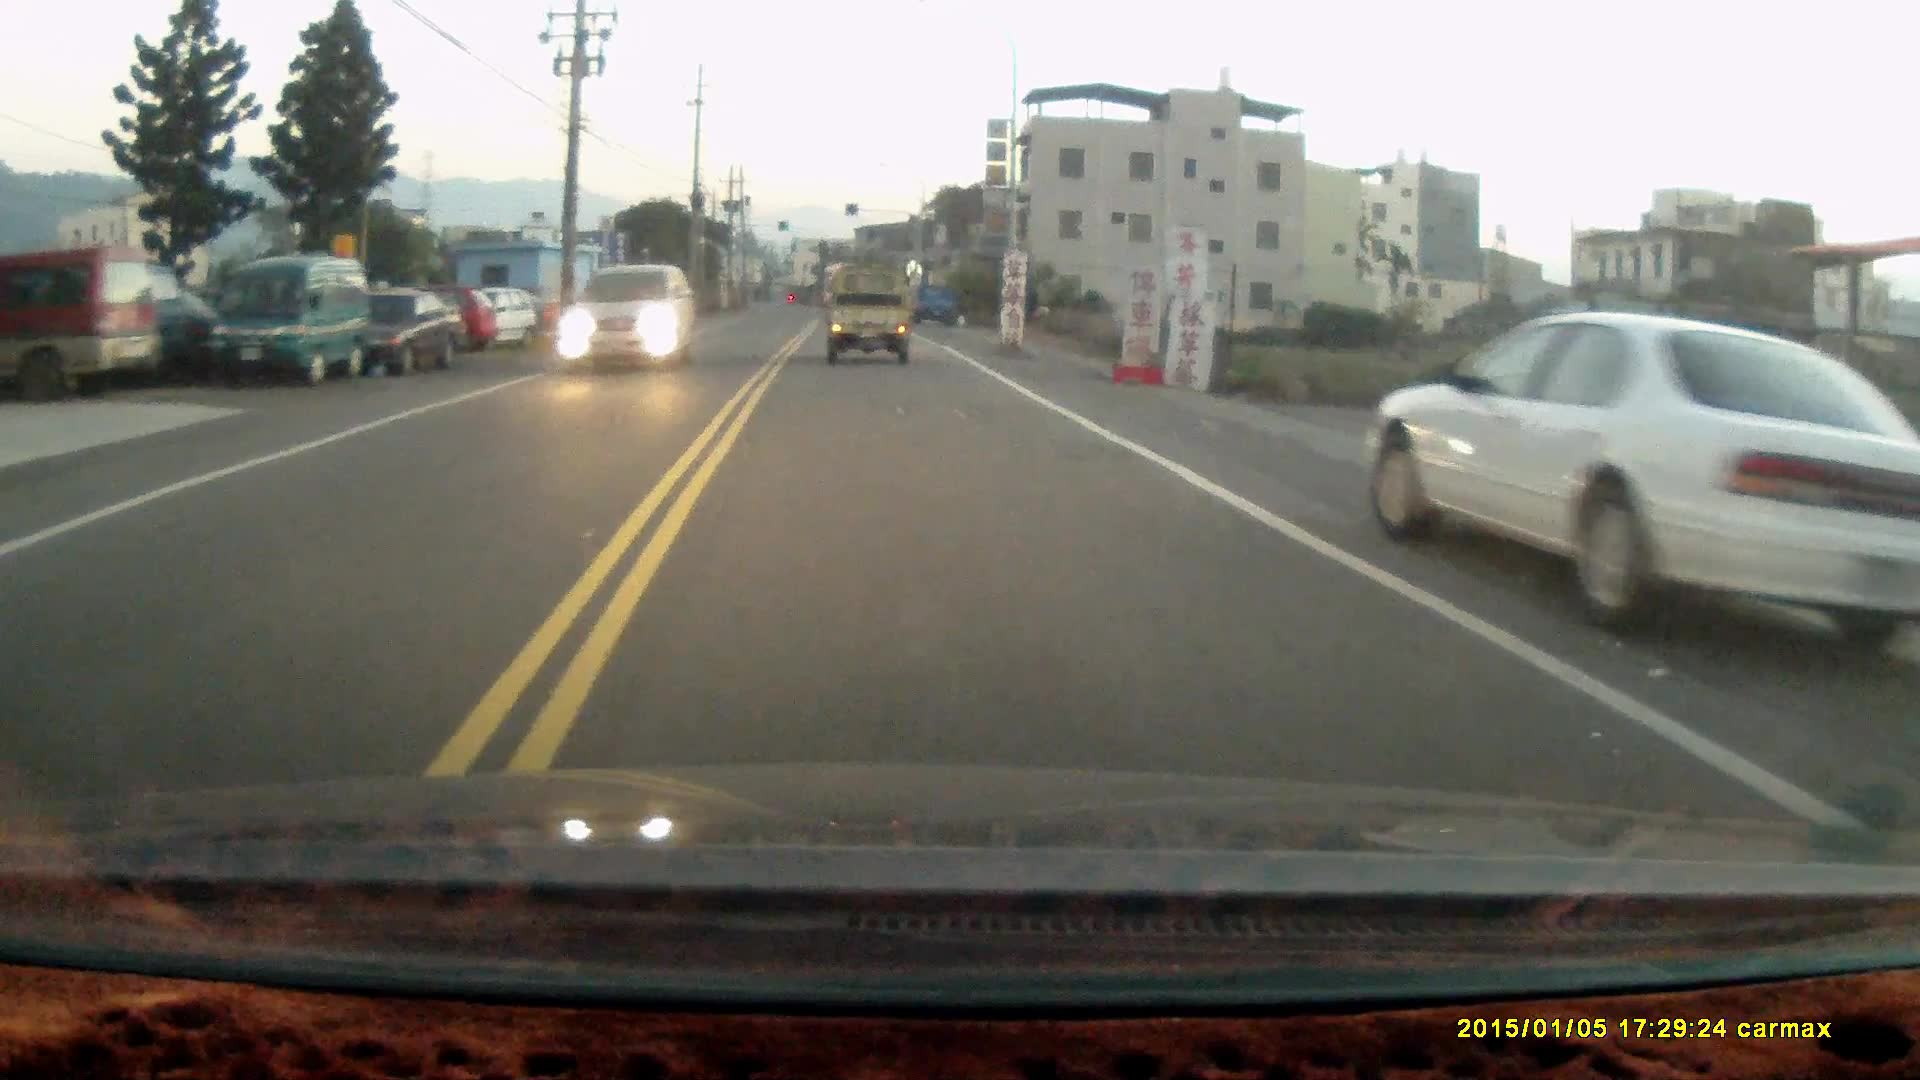vehicle: (1366, 310, 1920, 636), (1, 247, 162, 393), (211, 256, 373, 384), (554, 262, 694, 378), (825, 278, 916, 373), (373, 291, 469, 377), (463, 293, 534, 360)
